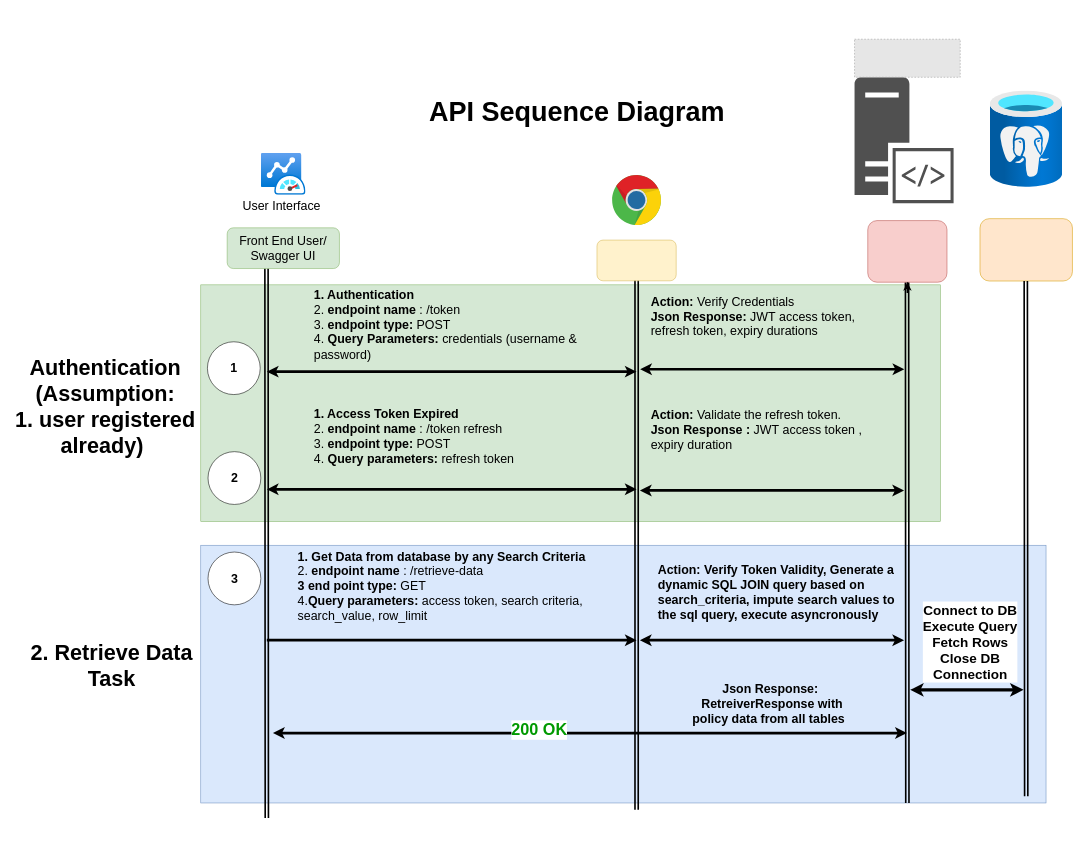
Some shapes in this 1082 by 866 pixel diagram are drawn without their labels. Grey dashed boxes stand in for pictures. The centre of each missing label's shape, as x and y in pixels:
"API Server" goes at point (907, 251).
"Browser" goes at point (636, 260).
"PostGres Database" goes at point (1025, 249).
